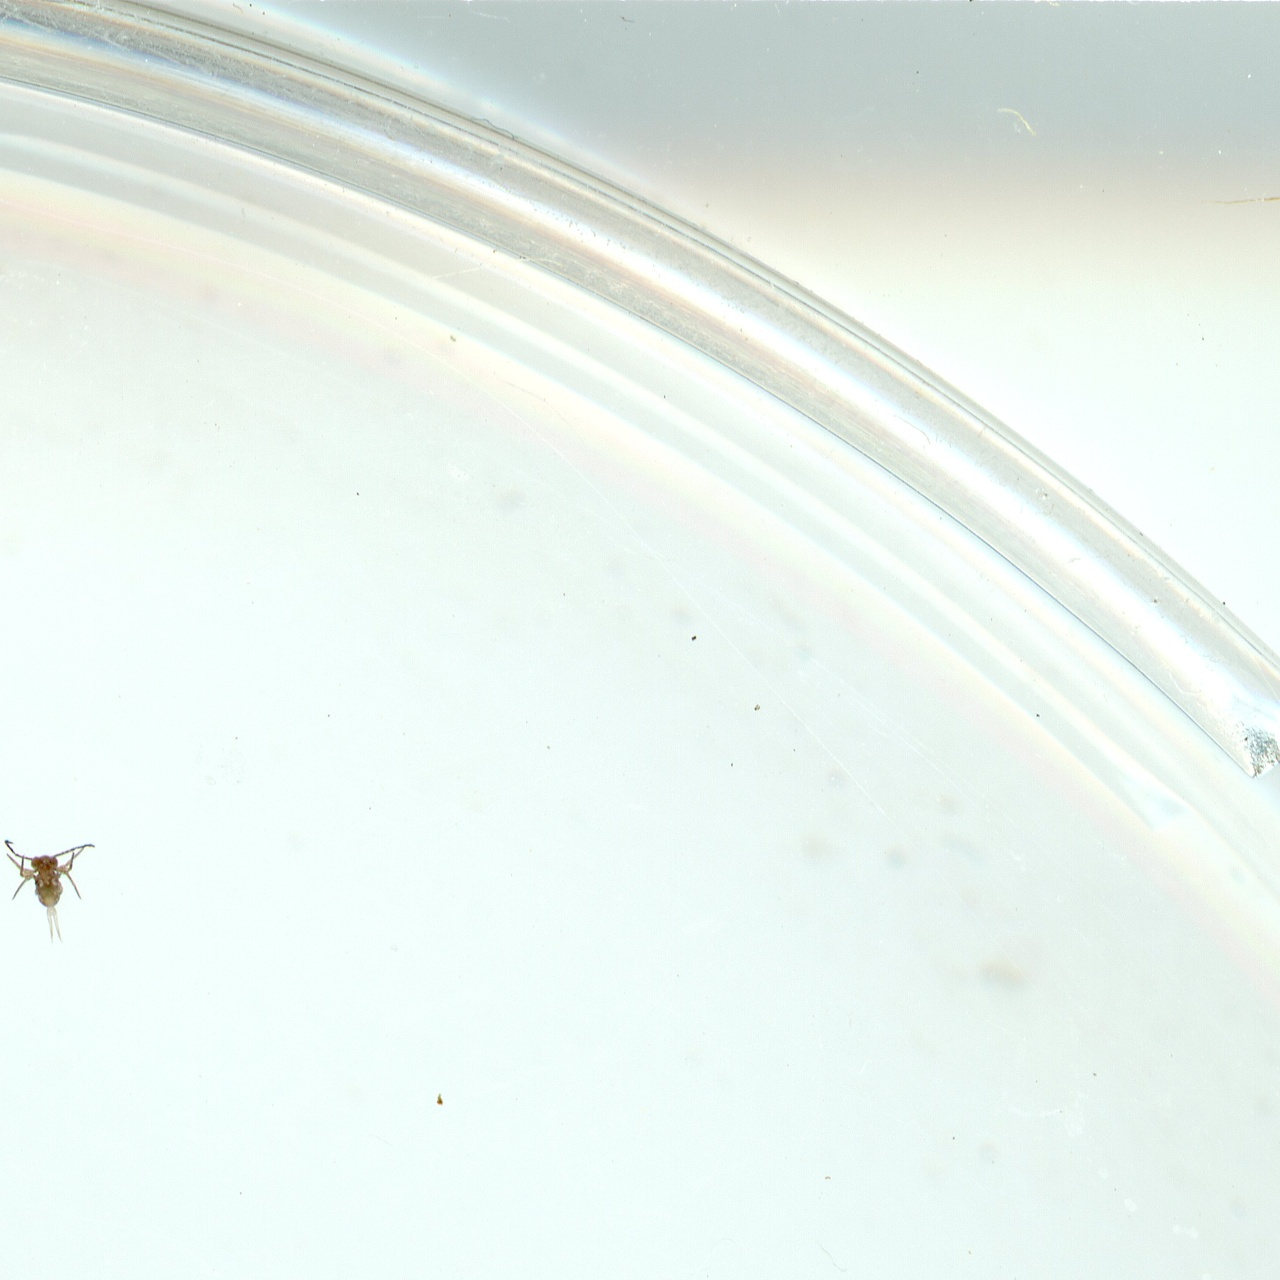arthropod: (0, 835, 104, 948)
